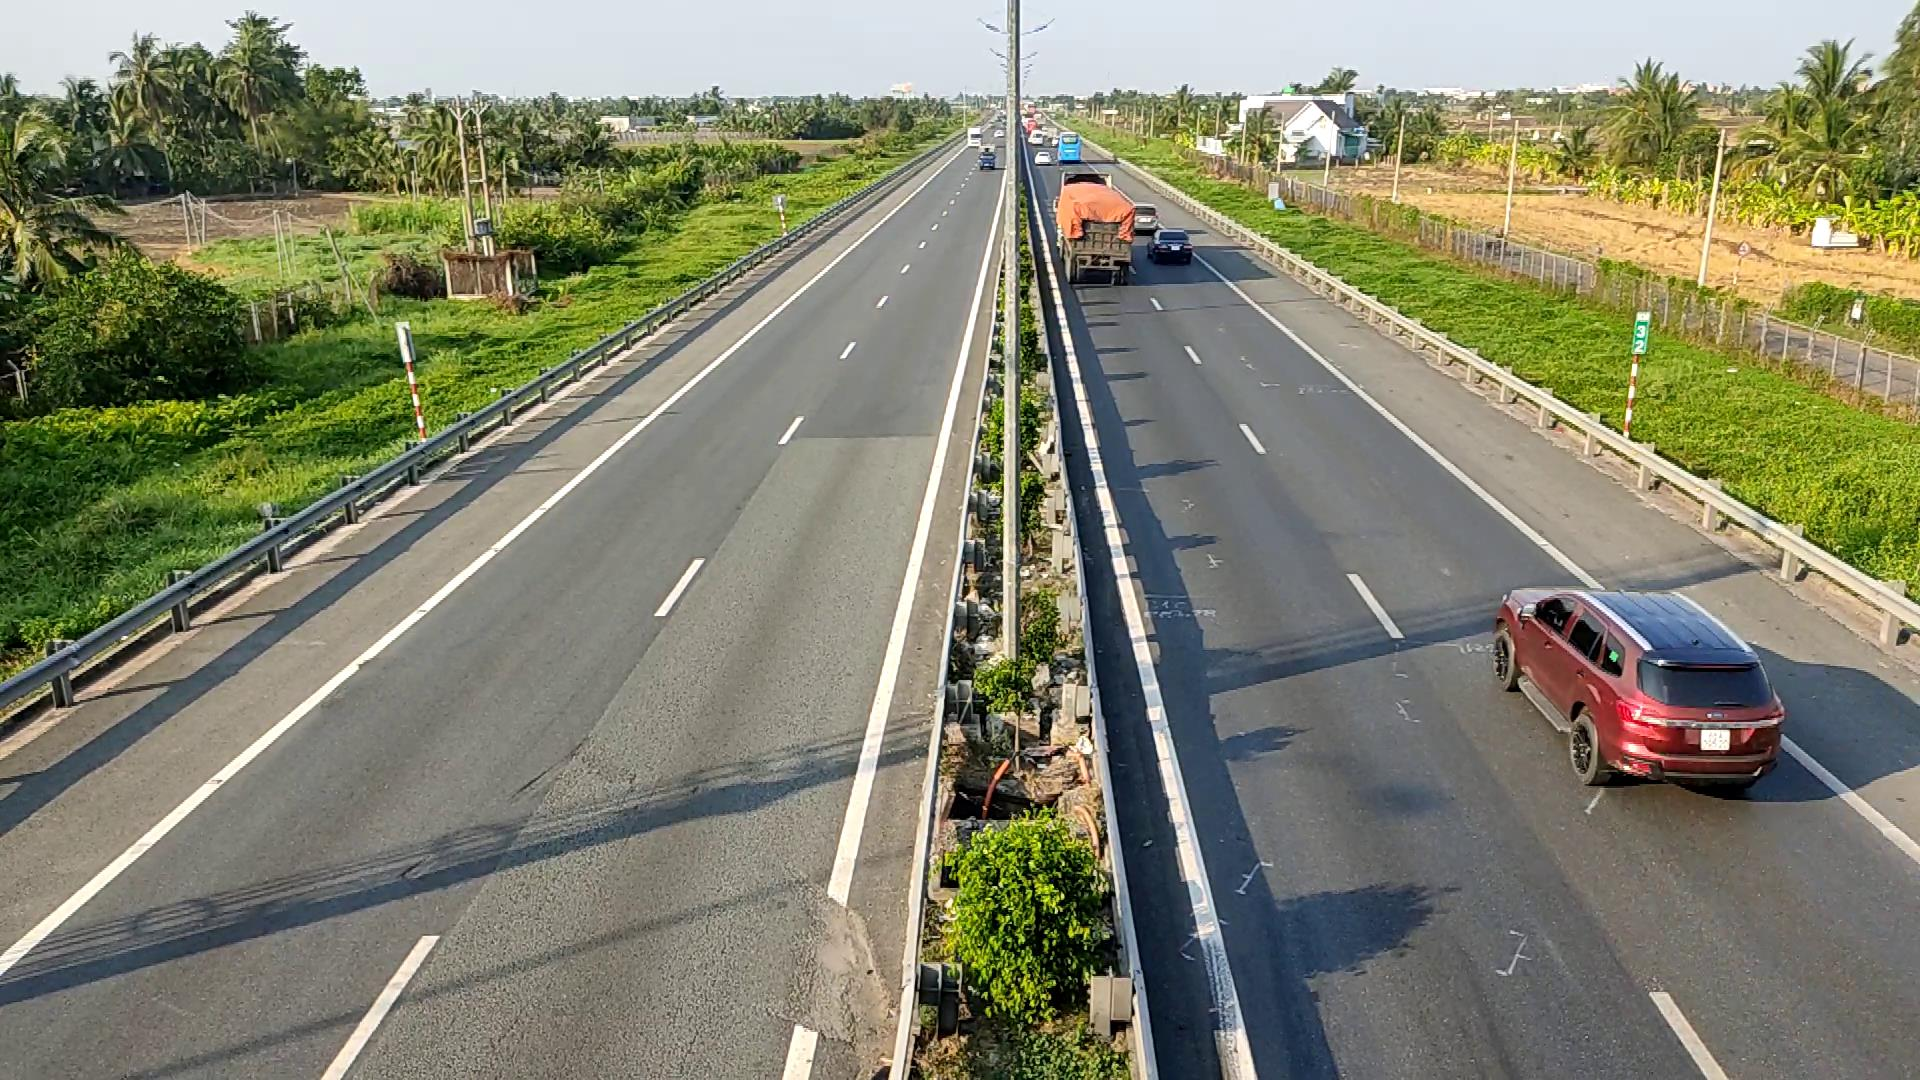car: (1491, 582, 1787, 791), (1149, 228, 1192, 264)
truck: (1055, 175, 1137, 285)
